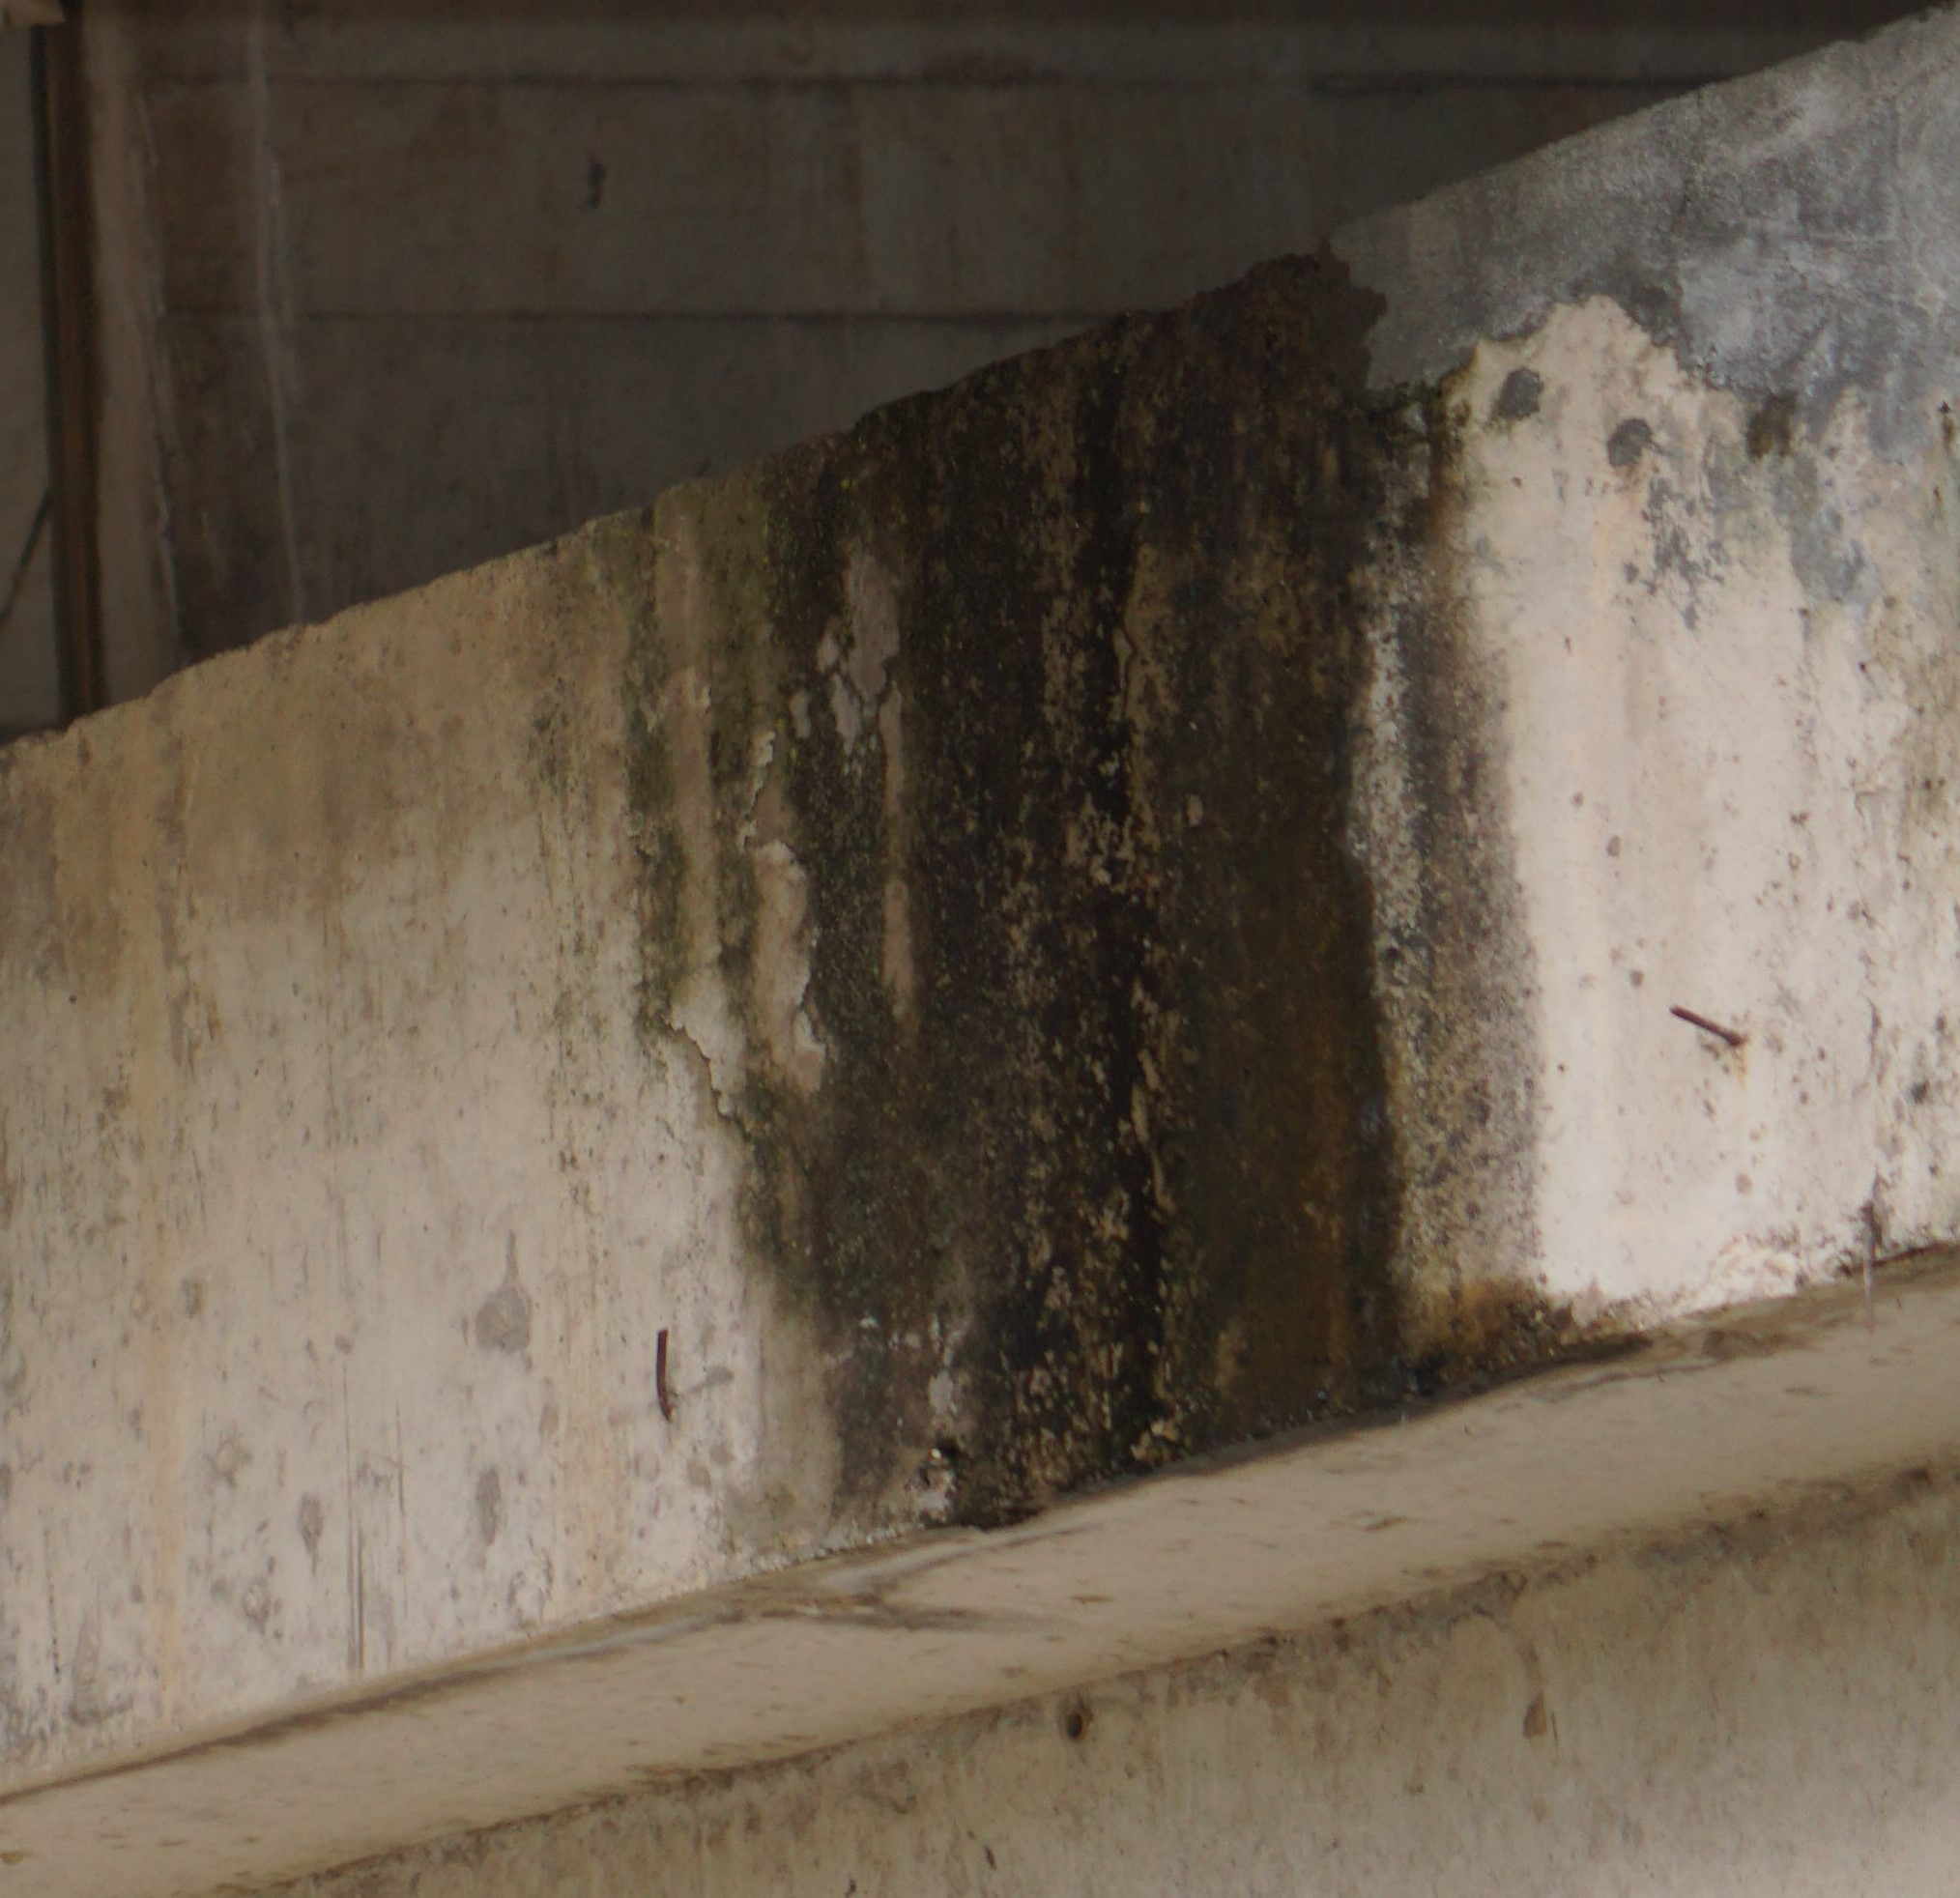Corrosion: (530, 252, 1540, 1536), (1540, 1293, 1654, 1375)
Exposed reinforcement: (1668, 1004, 1743, 1048), (655, 1328, 674, 1422)
Spalling: (1610, 5, 1960, 632), (1328, 119, 1610, 390)
